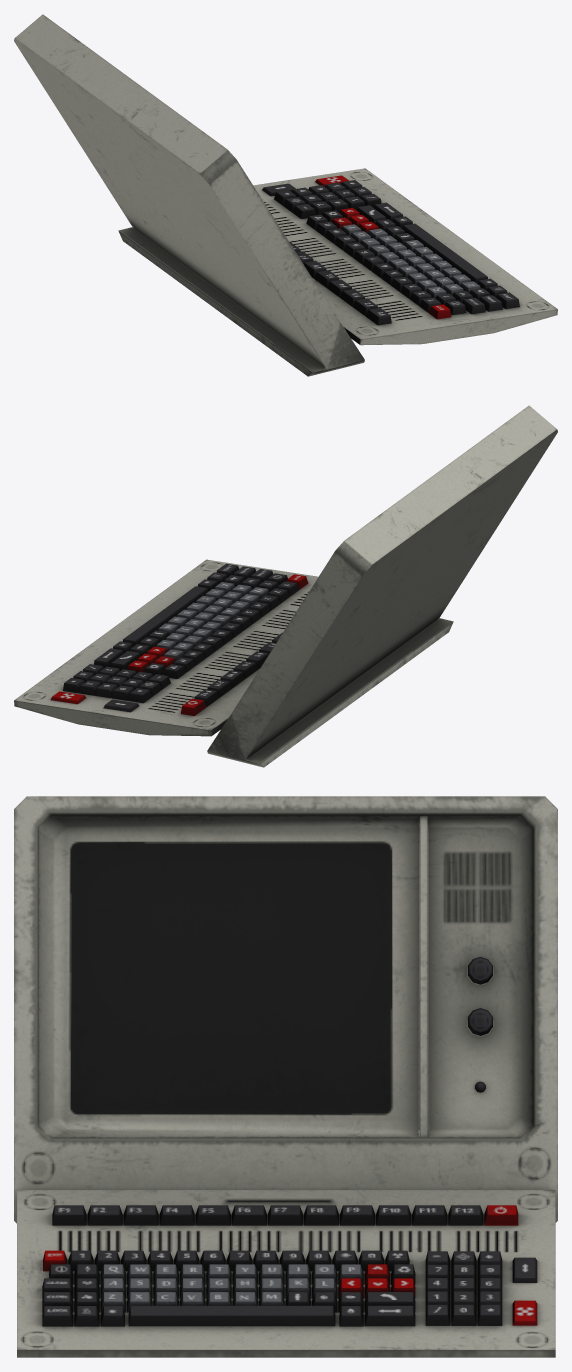
File: Console.fbx
The picture shows the model from 3 angles, top to bottom: view 1: azimuth 30°, elevation 25°; view 2: azimuth 150°, elevation 25°; view 3: azimuth 270°, elevation 25°; orthographic projection. The views are drawn at different scales.
Visible parts, largest first — view 1: Console; view 2: Console; view 3: Console.
Part boxes in pixels (<box>): Console: <box>14,14,557,376</box>; Console: <box>14,405,557,767</box>; Console: <box>14,796,557,1357</box>.
Size of the model in its own units: 45.3 by 30.08 by 43.01.
1 material, 1 textured.
